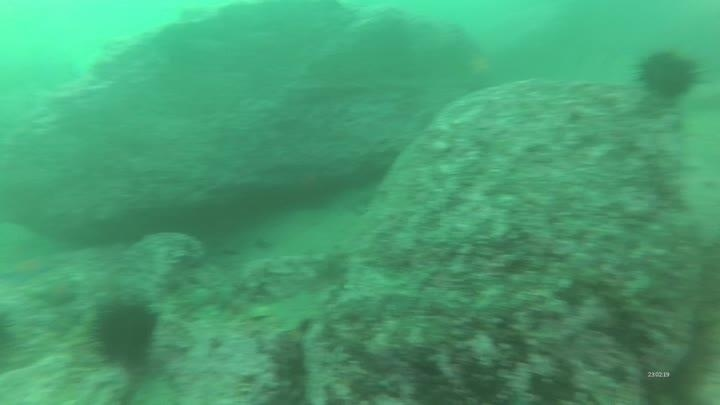echinus: (86, 293, 163, 373), (633, 45, 705, 104)
starfish: (1, 251, 56, 288), (32, 275, 82, 310)
